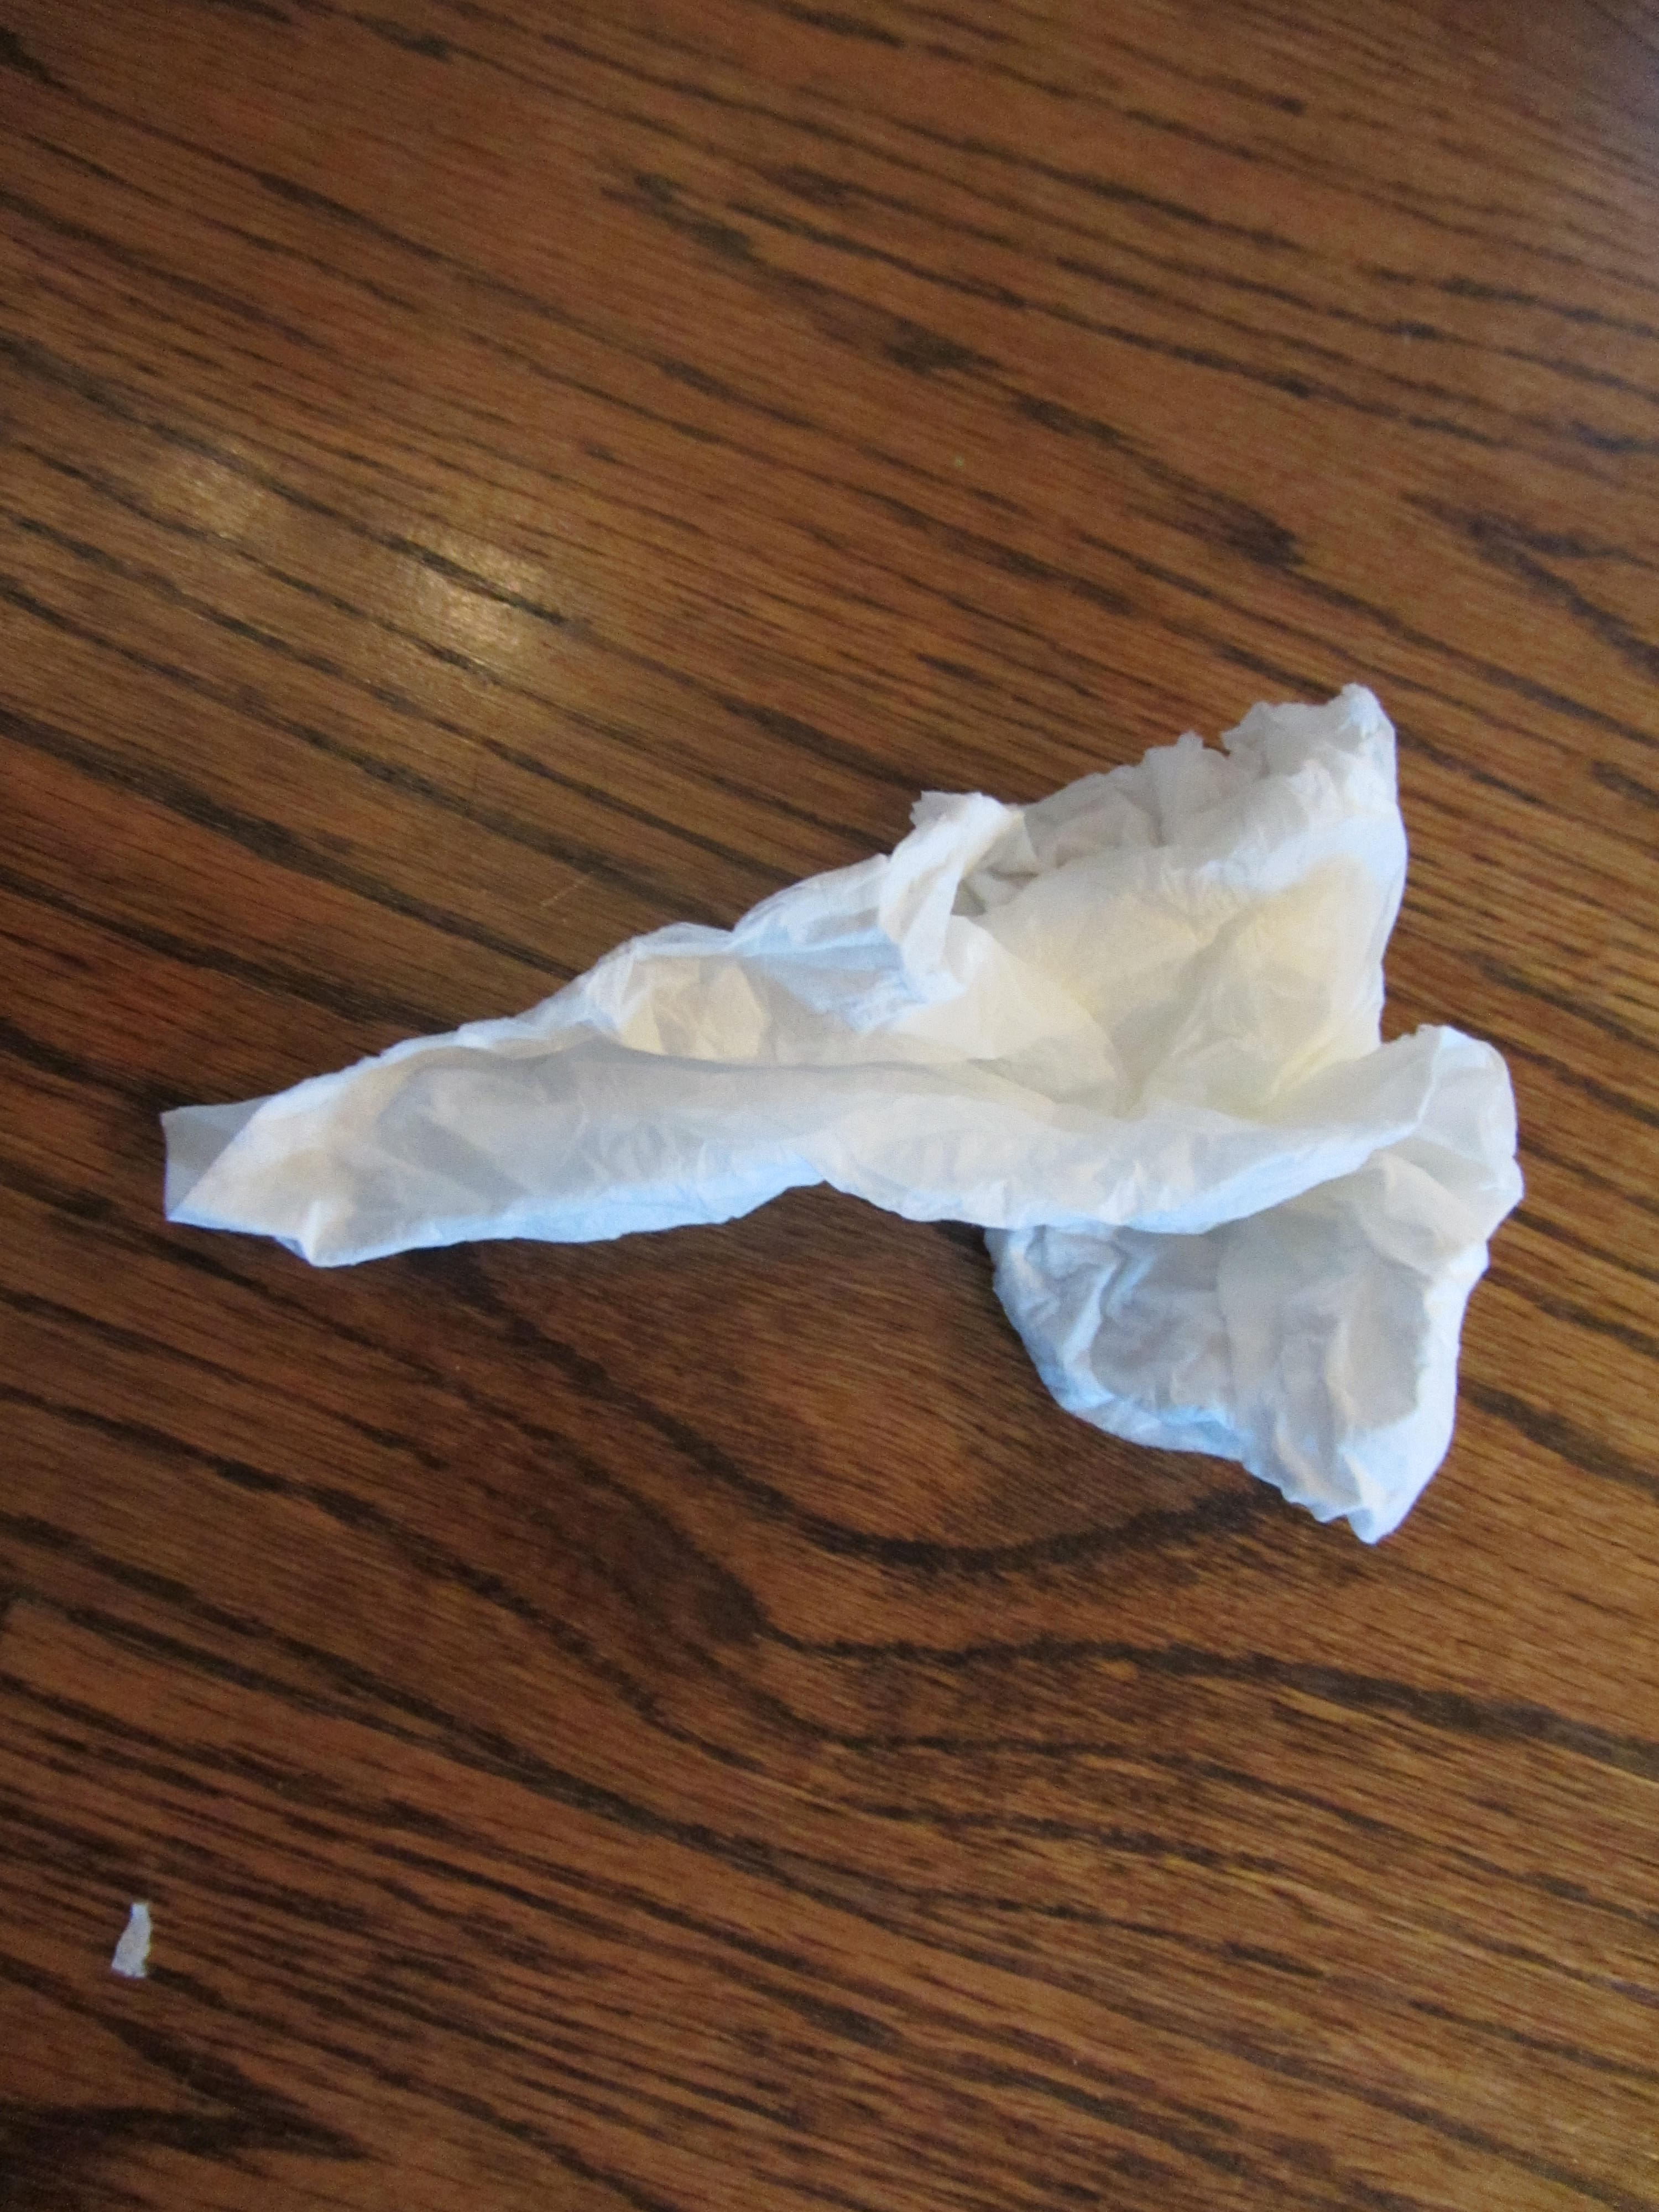tissue: (148, 657, 1514, 1534)
